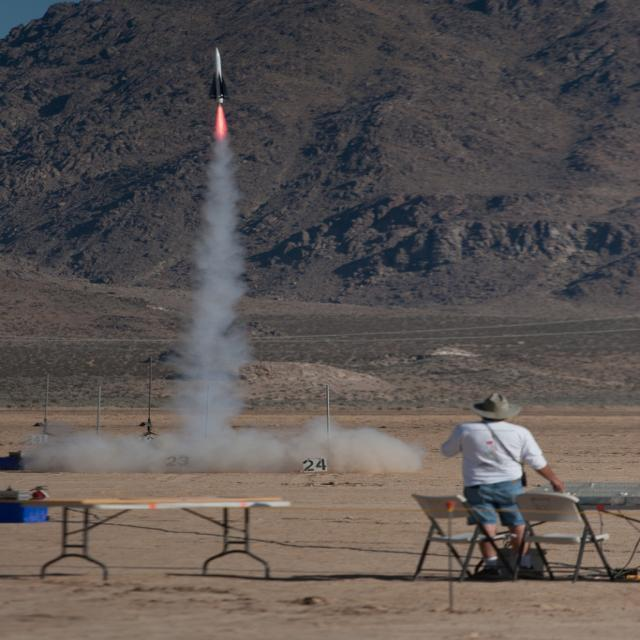missile: (212, 44, 225, 112)
